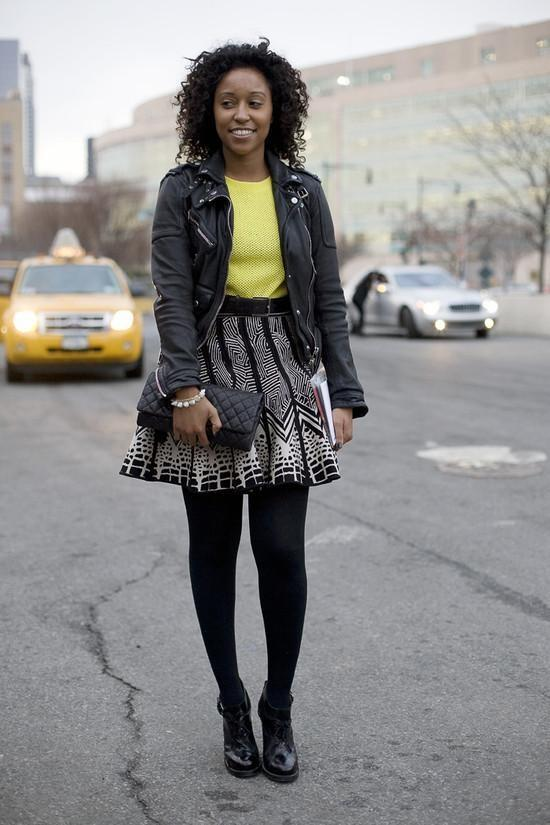skirt: (117, 296, 342, 493)
sweater: (152, 158, 368, 419)
